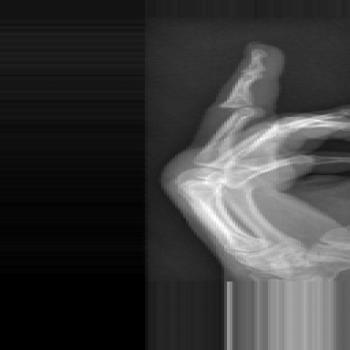Fracture: (209, 101, 275, 116)
